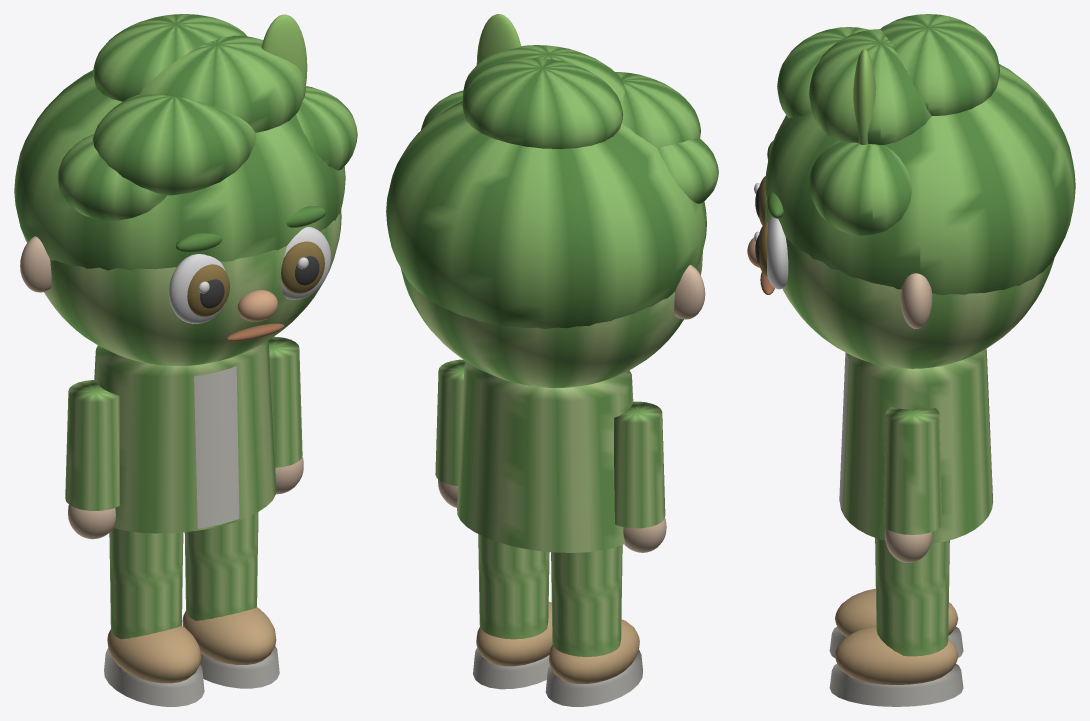
File: watermelon_boy_3d.glb
The picture shows the model from 3 angles, left to right: view 1: azimuth 30°, elevation 25°; view 2: azimuth 150°, elevation 25°; view 3: azimuth 270°, elevation 25°; orthographic projection. The views are drawn at different scales.
Parts seen in each view (by area): view 1: WatermelonBoy; view 2: WatermelonBoy; view 3: WatermelonBoy.
Part boxes in pixels (x1,y1,x2,y2): WatermelonBoy: (14,14,357,706); WatermelonBoy: (386,14,718,706); WatermelonBoy: (747,14,1075,706).
Bounding box in the file's own units: 0.94 × 1.82 × 0.825.
